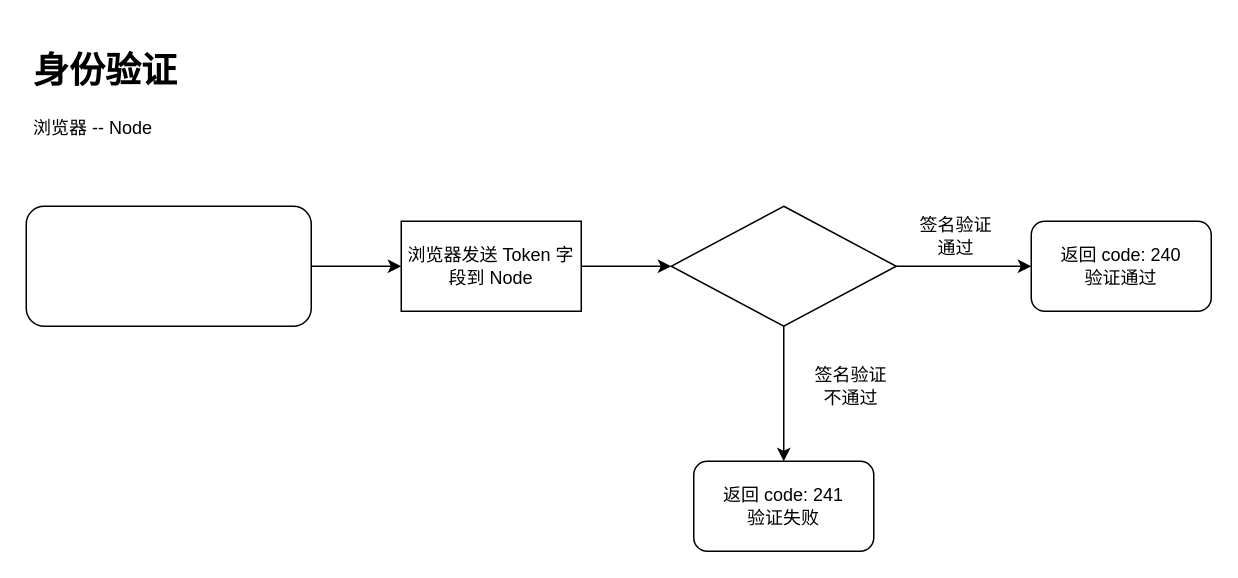
The diagram is 1238 pixels wide and 578 high, and some of its shapes have lost their labels. Here are the shapes that lost their labels. From the top down, the centre of each, then its label:
the point at 168,265: 切换页面时需要判断 当前浏览器内的 Token 是否还有效
the point at 783,265: 根据密钥解析 Token
